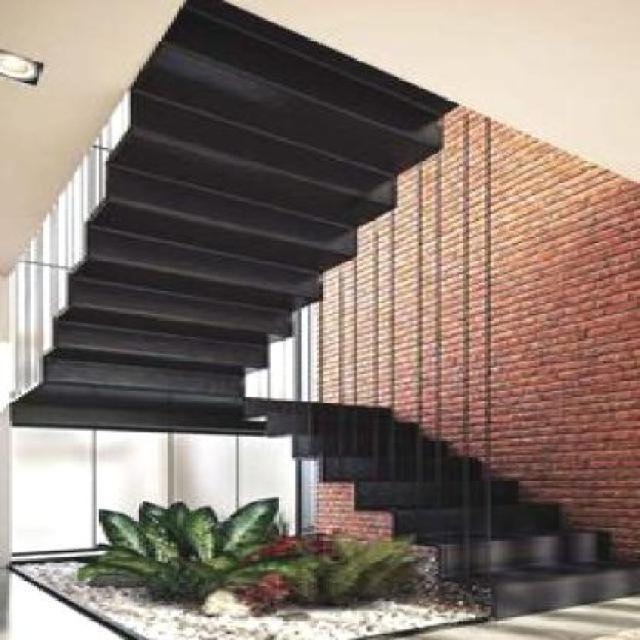stair: (238, 341, 636, 619)
